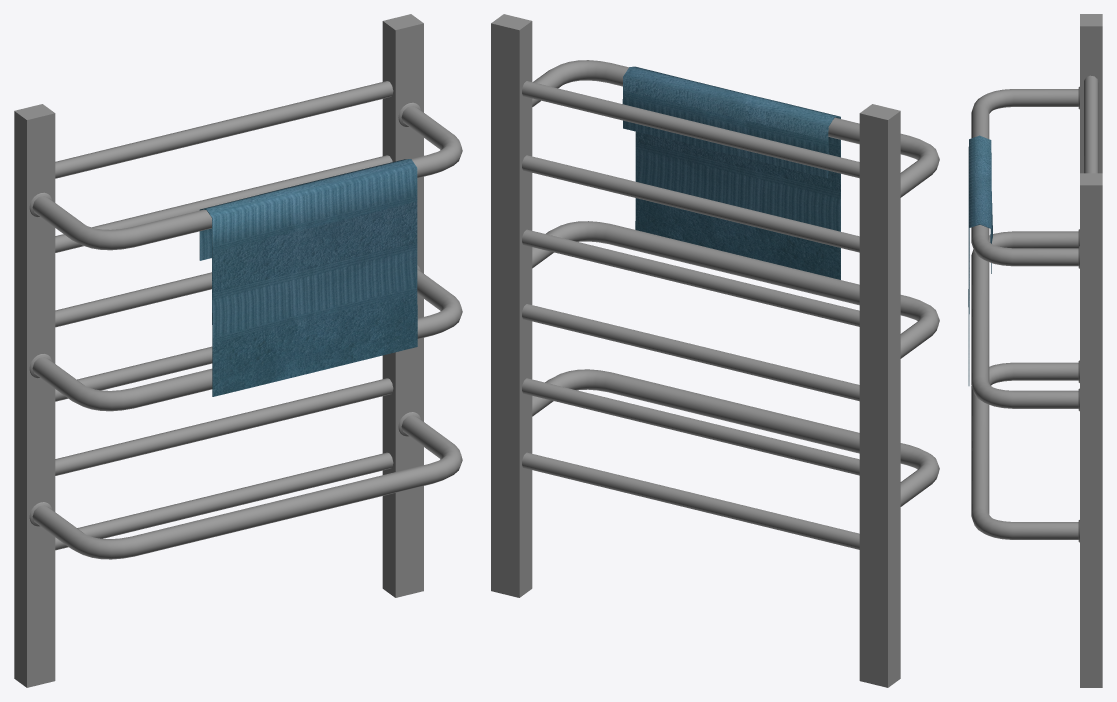
File: BathStand01b.FBX
The picture shows the model from 3 angles, left to right: view 1: azimuth 30°, elevation 25°; view 2: azimuth 150°, elevation 25°; view 3: azimuth 270°, elevation 25°; orthographic projection. The views are drawn at different scales.
Visible parts, largest first — view 1: BathStand01b, Towel01; view 2: BathStand01b, Towel01; view 3: BathStand01b, Towel01.
Boxes of the visible parts, x1,y1,x2,y2 form: BathStand01b: [14, 14, 462, 687]; Towel01: [199, 159, 417, 396]; BathStand01b: [491, 14, 939, 687]; Towel01: [622, 66, 840, 279]; BathStand01b: [971, 14, 1102, 687]; Towel01: [968, 135, 992, 385].
Bounding box in the file's own units: 49.54 × 67.72 × 16.37.
